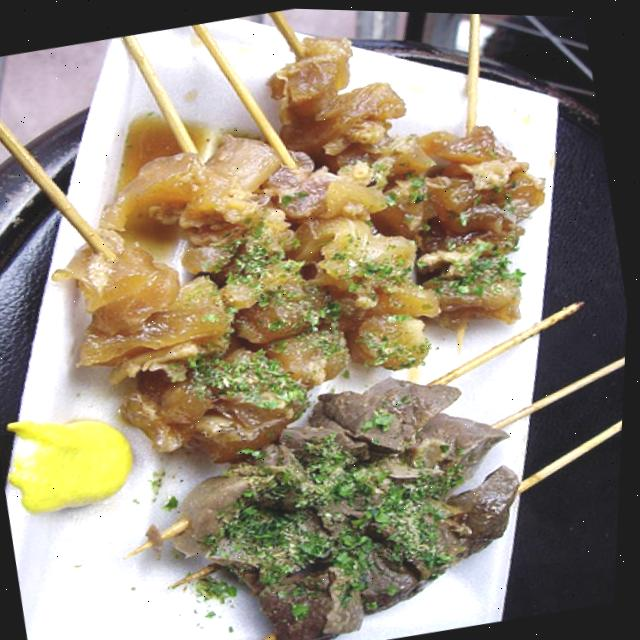汤锅炖物: (1, 1, 635, 640)
